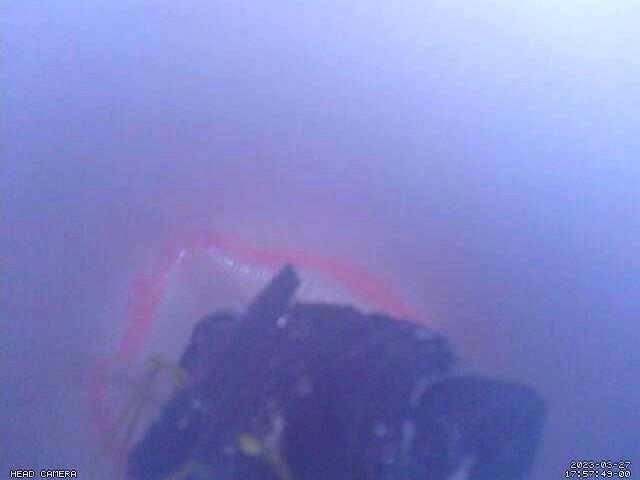head: (87, 228, 420, 471)
